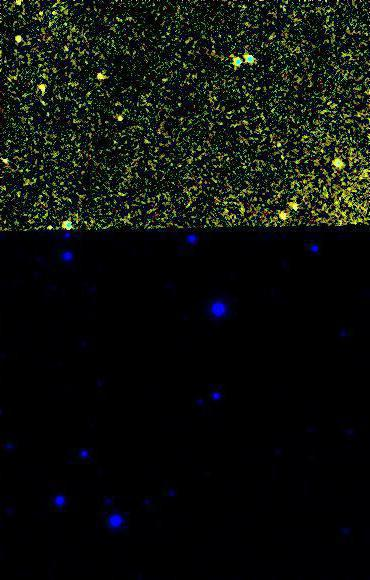star: (272, 131, 302, 161)
